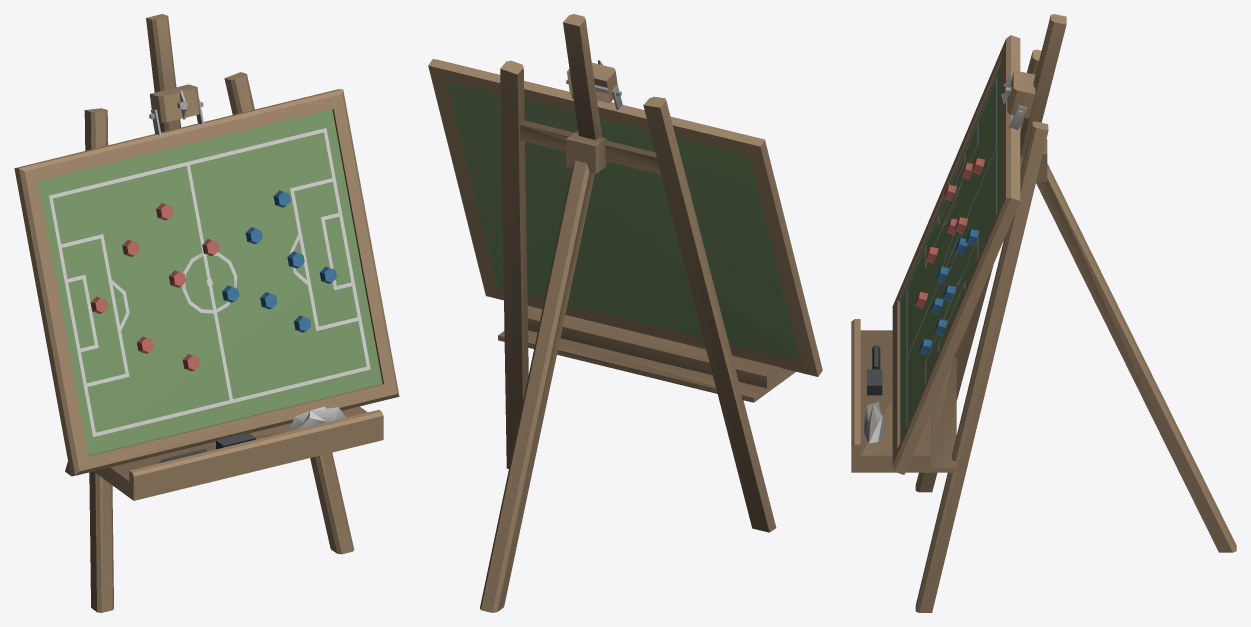
Rendered from tactics.glb.
3 views of the same model, side by side, from view 1: azimuth 30°, elevation 25°; view 2: azimuth 150°, elevation 25°; view 3: azimuth 270°, elevation 25° (orthographic). The views are drawn at different scales.
Parts seen in each view (by area): view 1: tactics; view 2: tactics; view 3: tactics.
Boxes of the visible parts, <box> form: tactics: <box>14,14,399,612</box>; tactics: <box>428,14,822,612</box>; tactics: <box>851,14,1236,612</box>.
Bounding box in the file's own units: 1.2 × 1.82 × 1.2.
